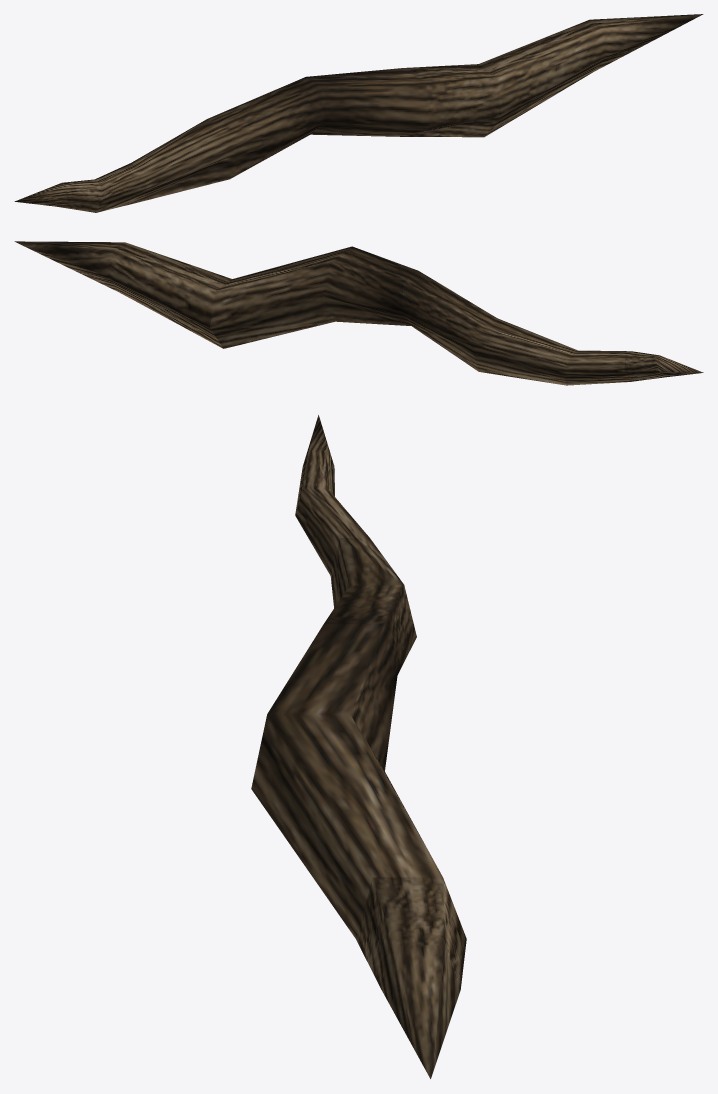
3 views of the same model, one above another, from view 1: azimuth 30°, elevation 25°; view 2: azimuth 150°, elevation 25°; view 3: azimuth 270°, elevation 25° (orthographic). The views are drawn at different scales.
Parts seen in each view (by area): view 1: a37; view 2: a37; view 3: a37.
Part boxes in pixels (x1=…): a37: x1=14, y1=14, x2=703, y2=212; a37: x1=14, y1=241, x2=703, y2=385; a37: x1=251, y1=415, x2=466, y2=1078.
Size of the model in its own units: 1554 by 232 by 219.
1 material, 1 textured.
